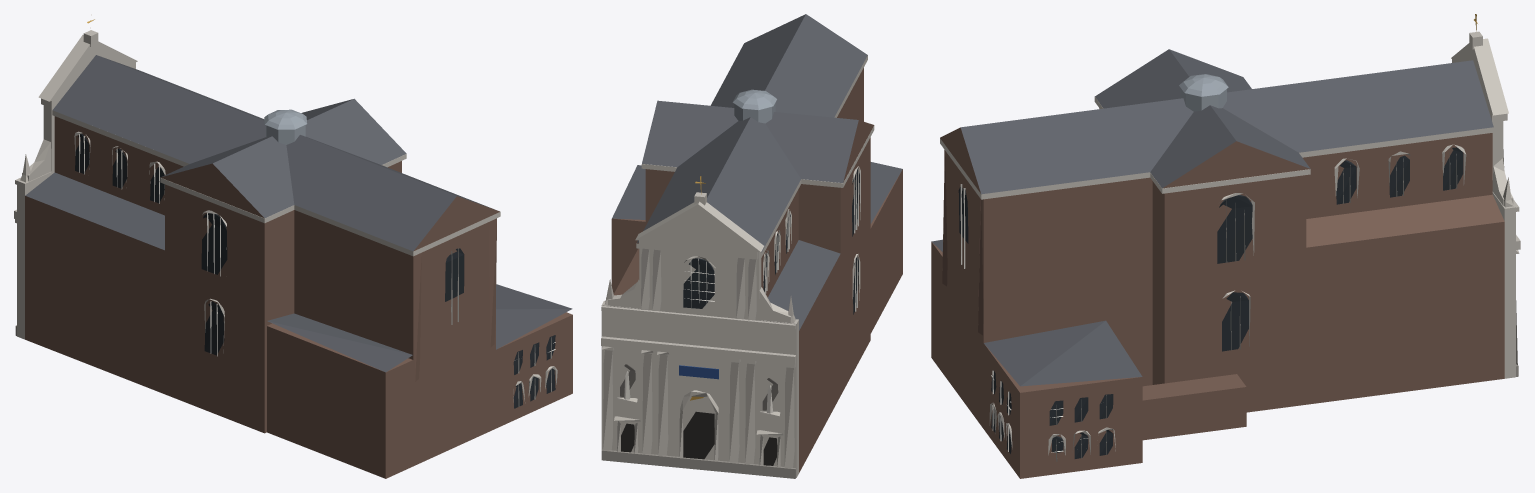
The model's file is de-duif.lod1.glb.
The picture shows the model from 3 angles, left to right: view 1: azimuth 30°, elevation 25°; view 2: azimuth 150°, elevation 25°; view 3: azimuth 270°, elevation 25°; orthographic projection. The views are drawn at different scales.
Visible parts, largest first — view 1: de-duif; view 2: de-duif; view 3: de-duif.
Part boxes in pixels (<box>): de-duif: <box>14,19,572,478</box>; de-duif: <box>601,14,902,478</box>; de-duif: <box>931,14,1520,478</box>.
Size of the model in its own units: 38.11 by 29.7 by 49.65.
